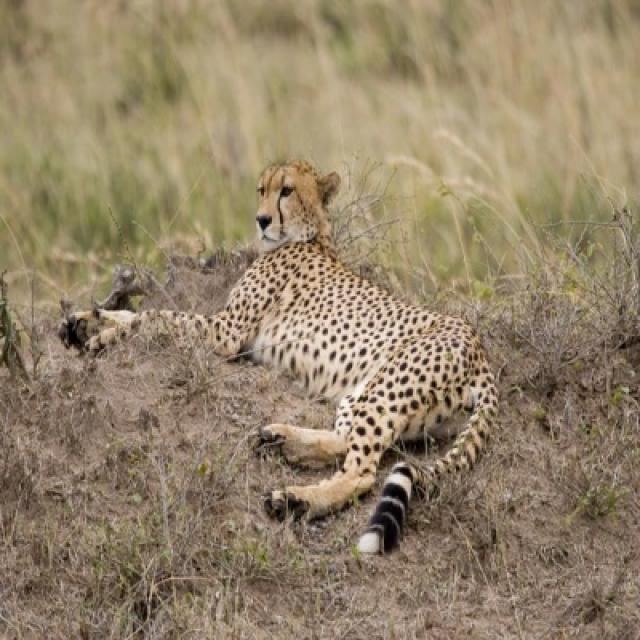Cheetah: (58, 162, 499, 565)
